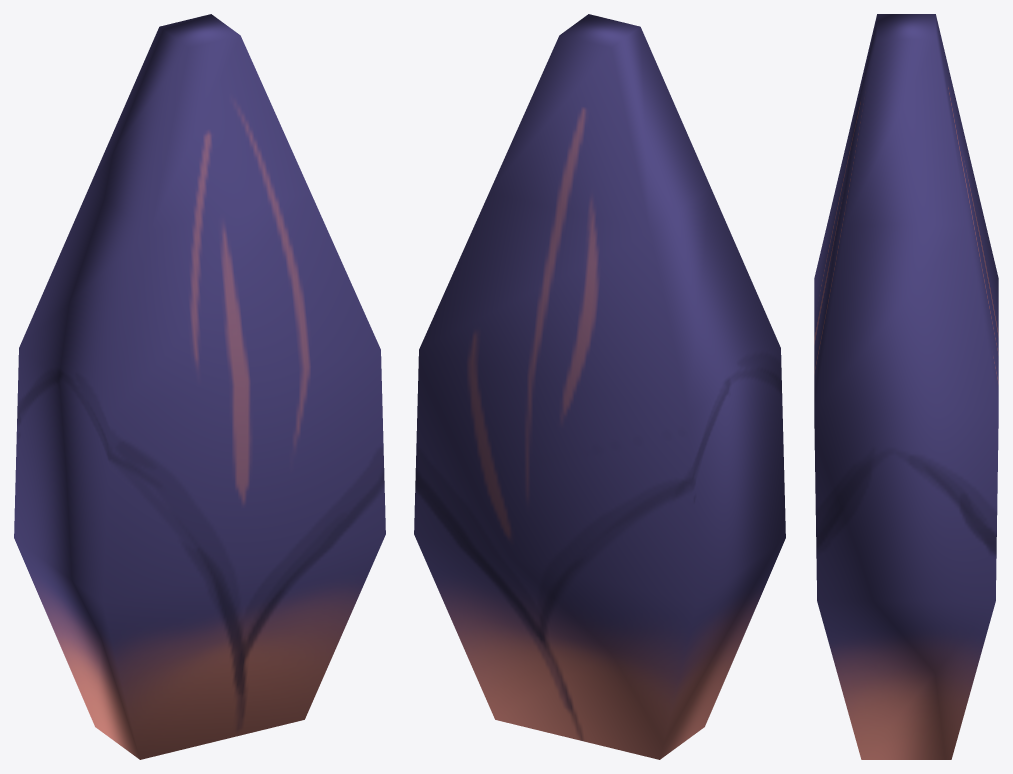
Rendered from Seed_Purple.fbx.
The picture shows the model from 3 angles, left to right: view 1: azimuth 30°, elevation 25°; view 2: azimuth 150°, elevation 25°; view 3: azimuth 270°, elevation 25°; orthographic projection.
Visible parts, largest first — view 1: SeedPurple:pasted__pCube1; view 2: SeedPurple:pasted__pCube1; view 3: SeedPurple:pasted__pCube1.
Part boxes in pixels (<box>): SeedPurple:pasted__pCube1: <box>14,14,385,759</box>; SeedPurple:pasted__pCube1: <box>414,14,785,759</box>; SeedPurple:pasted__pCube1: <box>814,14,998,759</box>.
Bounding box in the file's own units: 0.5856 × 1.37 × 0.3308.
1 material, 1 textured.
